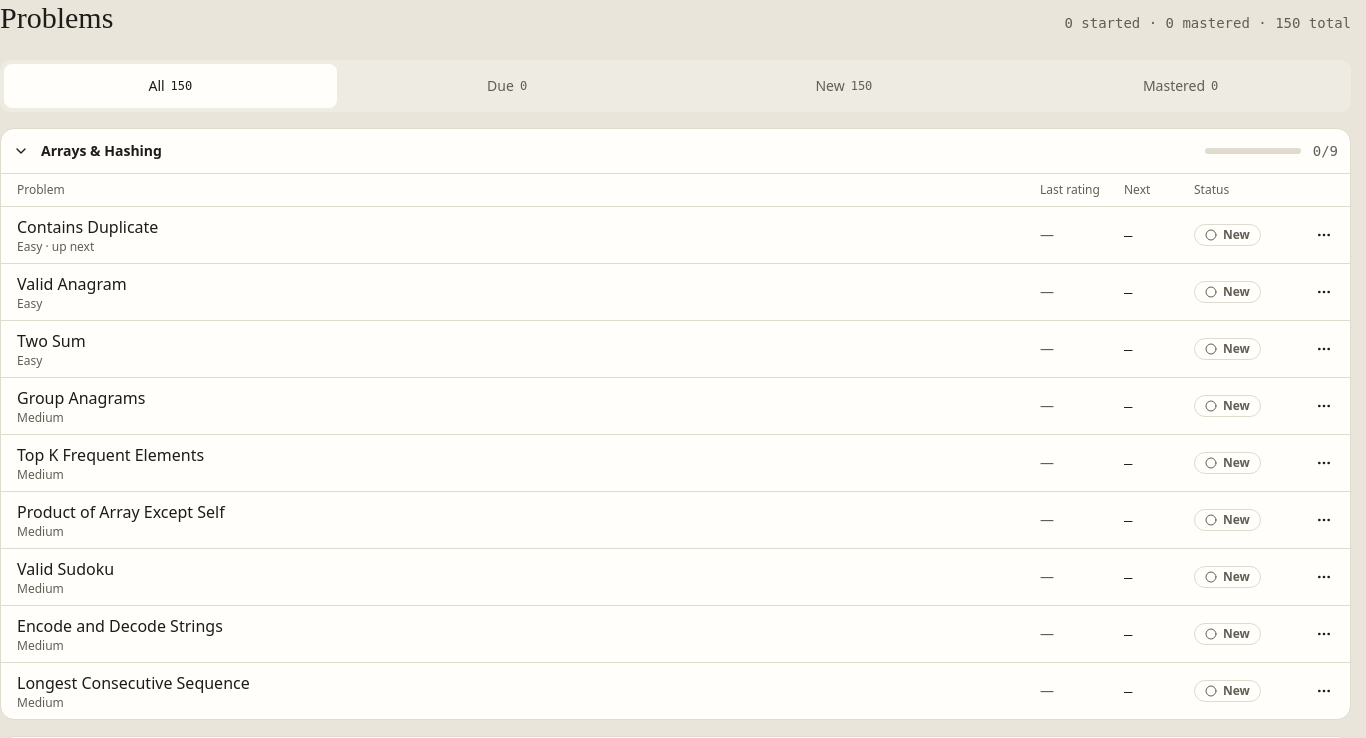
ProblemsPage › leaves the problem unchanged when the confirmation is cancelled
Click the button named "Actions for Contains Duplicate" in the row of "Contains Duplicate" at (1324, 235), box [1302,213,1346,257]
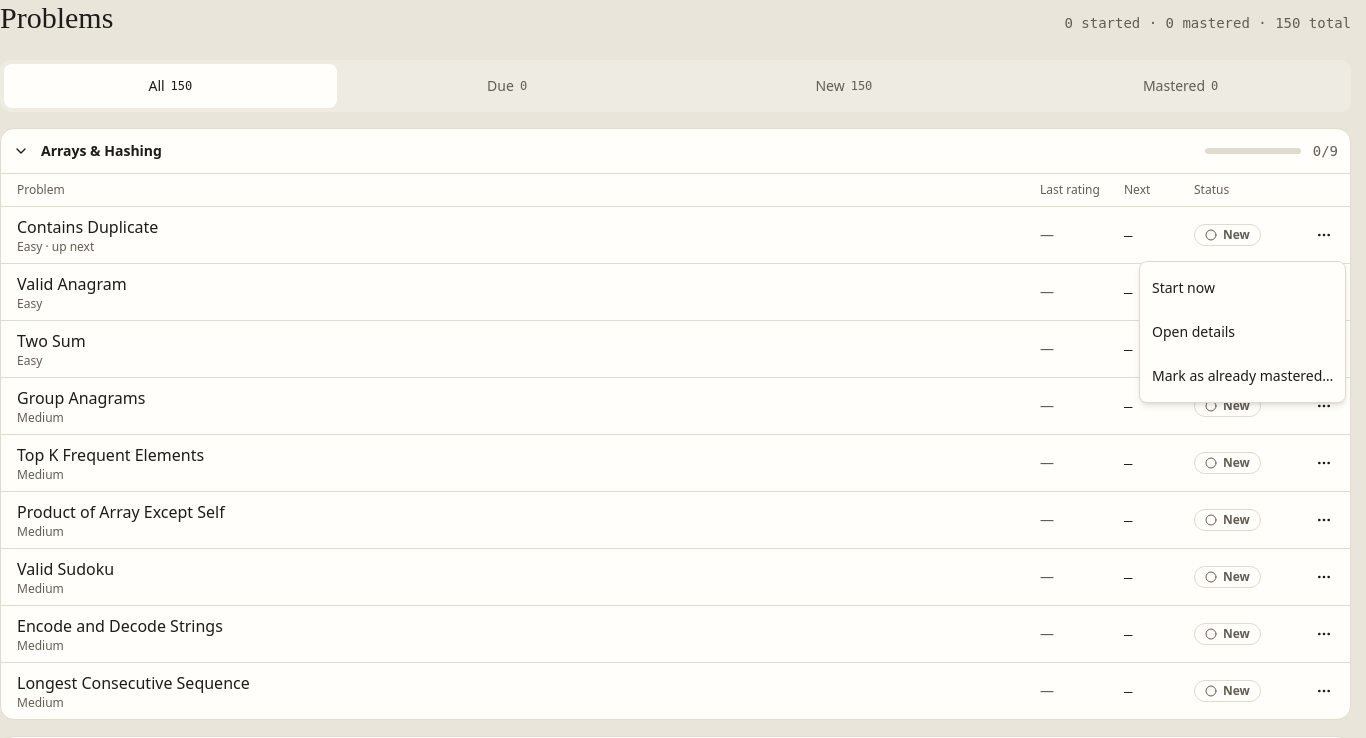
Click the menu item "Mark as already mastered…" at (1243, 376), box [1152,366,1334,385]
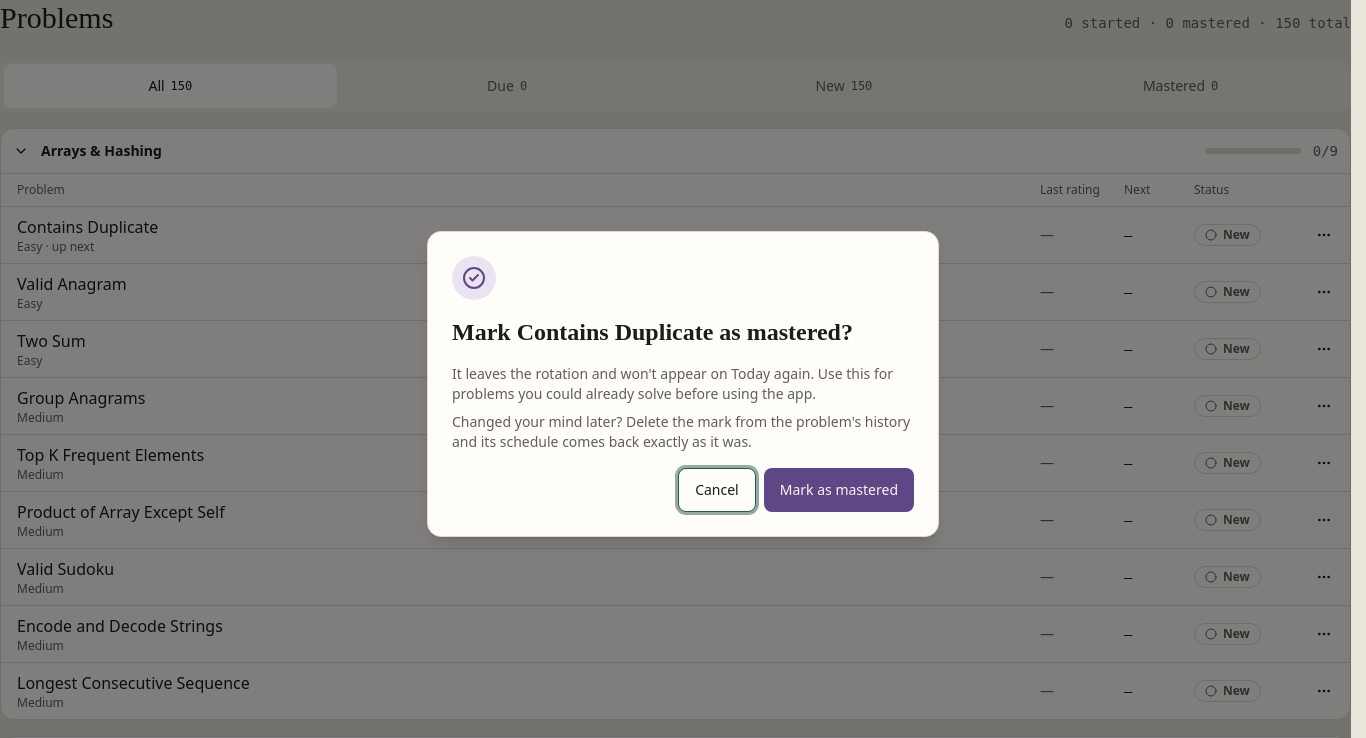
Click the button "Cancel" at (717, 490), box [678,468,756,512]
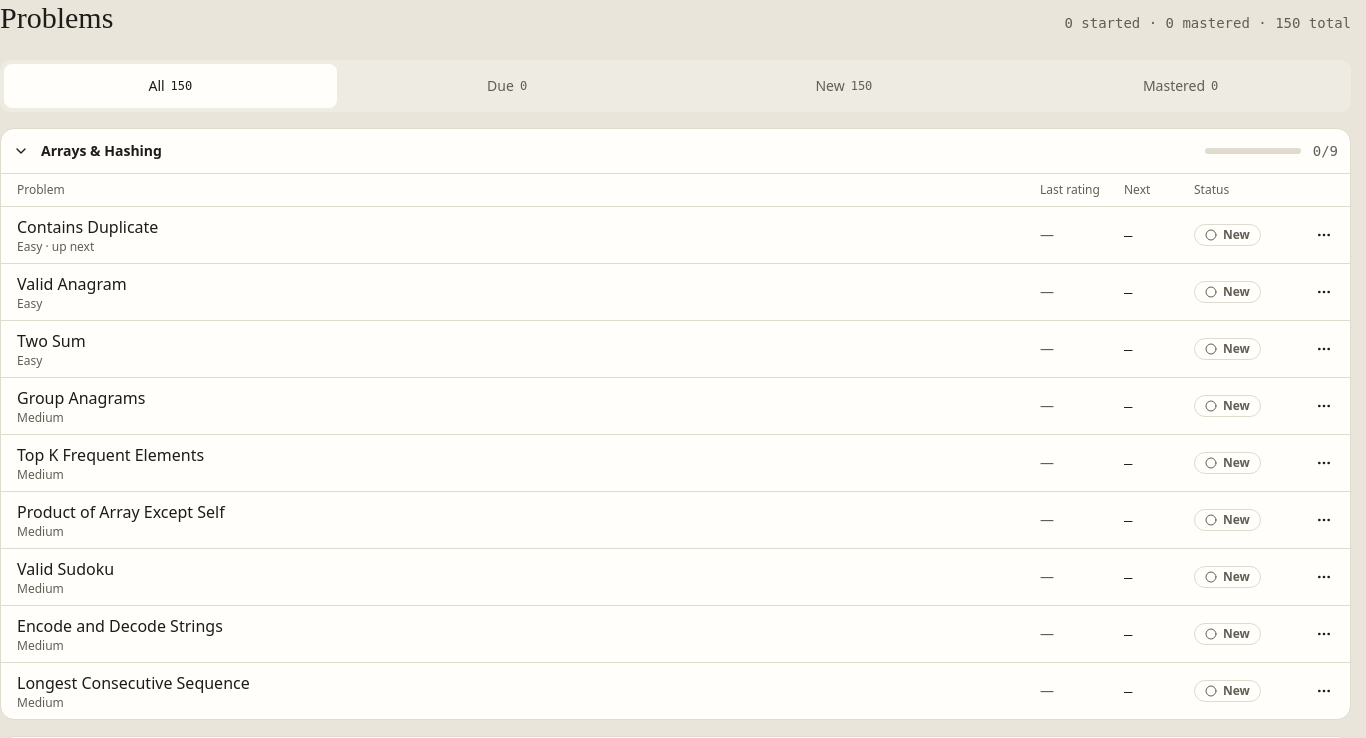
Expected: the text "New" in the row of "Contains Duplicate" is shown, [1223,226,1250,243]
Expected: the dialog is gone
